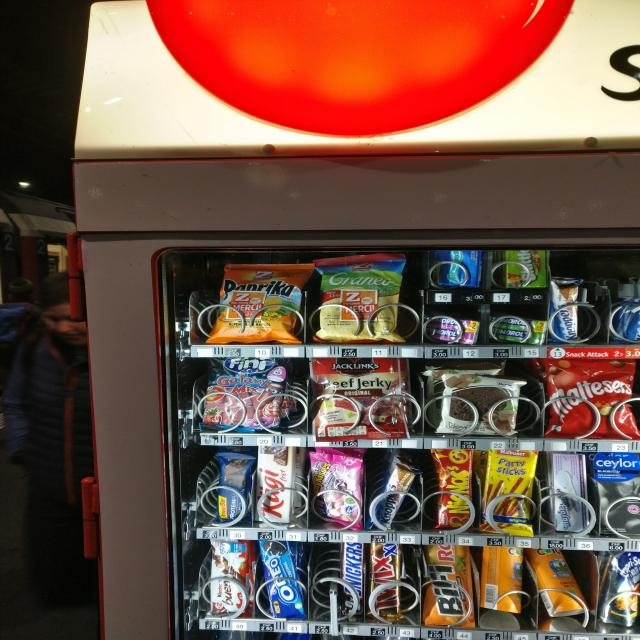airwaves_menthoneucalyptus_riegel_14_1_50173167: (432, 246, 484, 290)
bifi_roll__50__4251097402635: (424, 544, 476, 625)
bueno___43__4008400320328: (203, 538, 250, 614)
c-swiss_dosenabisicetea__33__9120025930135: (526, 549, 586, 618), (478, 544, 528, 616)
fini_galaxymix_packung_100_1_8410525150364: (201, 356, 283, 432)
fini_jellykisses_packung_80_1_8410525116704: (306, 452, 366, 535)
jacklinks_beefjerkyorginal__25__4047751730219: (308, 358, 411, 439)
kagi___50__7610046000259: (256, 445, 294, 525)
knoppers_riegel____4035800488808: (371, 464, 417, 534), (550, 278, 586, 346)
lorenz_nicnacs__40__4018077798818: (429, 446, 477, 534)
malburner_partysticks__40__7610200279682: (483, 446, 538, 534)
maltesers___100__5000159023061: (542, 357, 640, 439)
oreo___66__84100733: (258, 537, 308, 617)
powerbar_proteinplusschoko__55__4029679520028: (212, 450, 252, 525)
skittles_sour_riegel_51_1_0000000000004: (504, 250, 547, 286)
snickers___50__5000159461122: (336, 538, 369, 619)
stimorol_spearmint_riegel_14_1_0000000000005: (490, 313, 546, 346)
stimorol_wildcherry_riegel_14_1_57060330: (428, 314, 481, 344)
twix___50__5000159459228: (366, 540, 404, 624)
zweifel_graneochilli__100__7610095184009: (316, 253, 404, 340)
zweifel_paprika__90__7610095013002: (211, 262, 305, 343)
